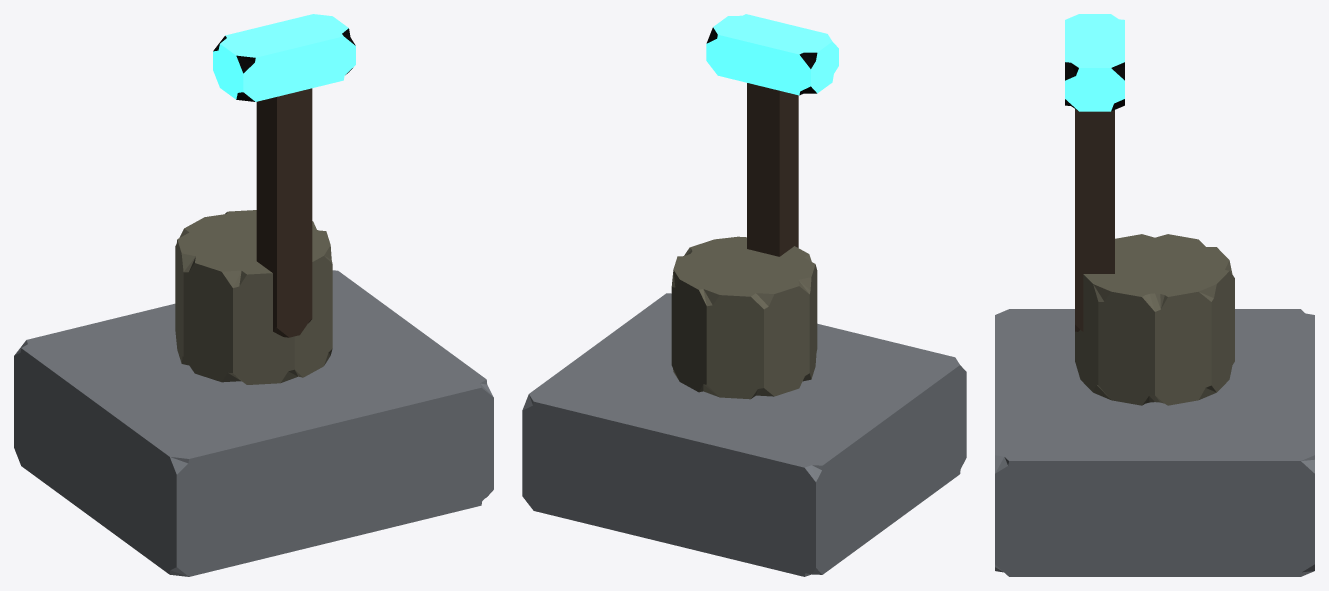
The model's file is lever_wind.glb.
3 views of the same model, side by side, from view 1: azimuth 30°, elevation 25°; view 2: azimuth 150°, elevation 25°; view 3: azimuth 270°, elevation 25° (orthographic). The views are drawn at different scales.
Visible parts, largest first — view 1: lever_wind_Static, Handle.002; view 2: lever_wind_Static, Handle.002; view 3: lever_wind_Static, Handle.002.
Part boxes in pixels (x1=…): lever_wind_Static: x1=14, y1=210, x2=493, y2=576; Handle.002: x1=213, y1=14, x2=355, y2=337; lever_wind_Static: x1=522, y1=236, x2=966, y2=576; Handle.002: x1=706, y1=14, x2=838, y2=256; lever_wind_Static: x1=995, y1=234, x2=1314, y2=576; Handle.002: x1=1065, y1=14, x2=1124, y2=331.
Bounding box in the file's own units: 0.9 × 1.27 × 0.8.
